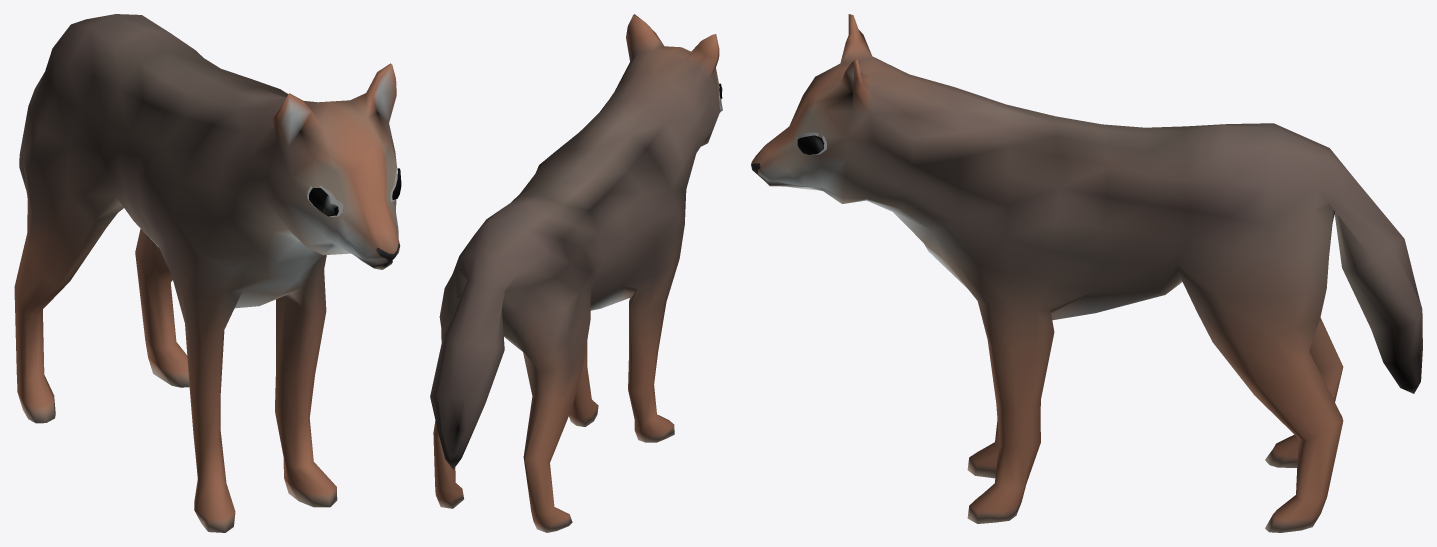
Rendered from Coyote_alt1.fbx.
3 views of the same model, side by side, from view 1: azimuth 30°, elevation 25°; view 2: azimuth 150°, elevation 25°; view 3: azimuth 270°, elevation 25° (orthographic). The views are drawn at different scales.
Parts seen in each view (by area): view 1: Coyote; view 2: Coyote; view 3: Coyote.
Boxes of the visible parts, <box> form: Coyote: <box>14,14,401,532</box>; Coyote: <box>430,14,722,532</box>; Coyote: <box>751,14,1422,532</box>.
Size of the model in its own units: 3981 by 10813 by 14337.
